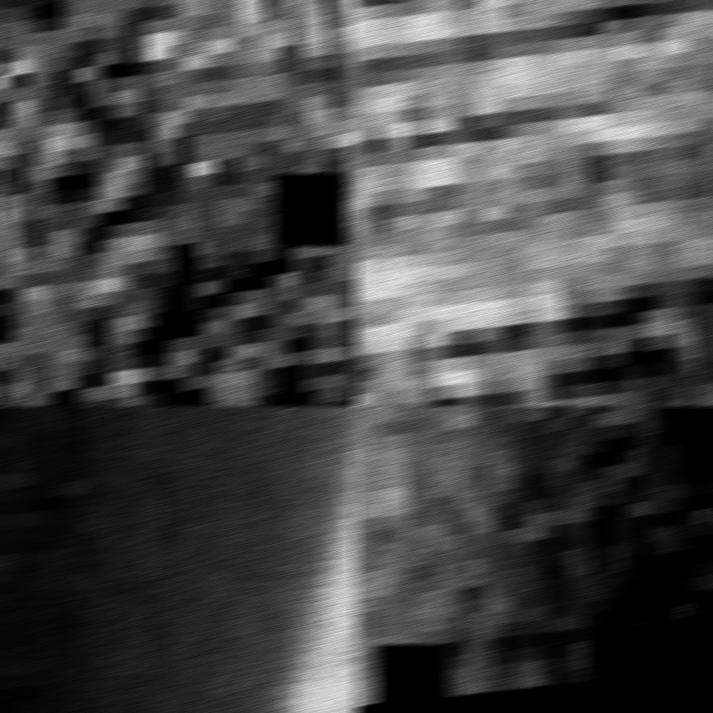AirbagV2: (0, 0, 358, 405), (353, 406, 713, 712), (0, 406, 358, 712)
